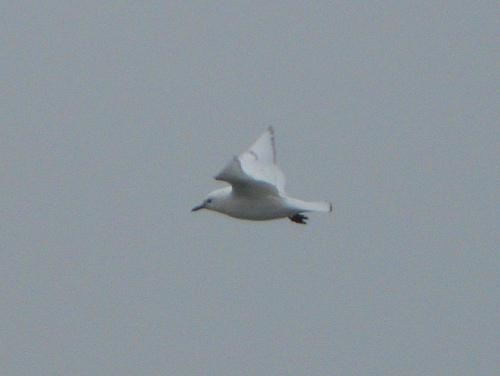bird: (189, 127, 334, 224)
